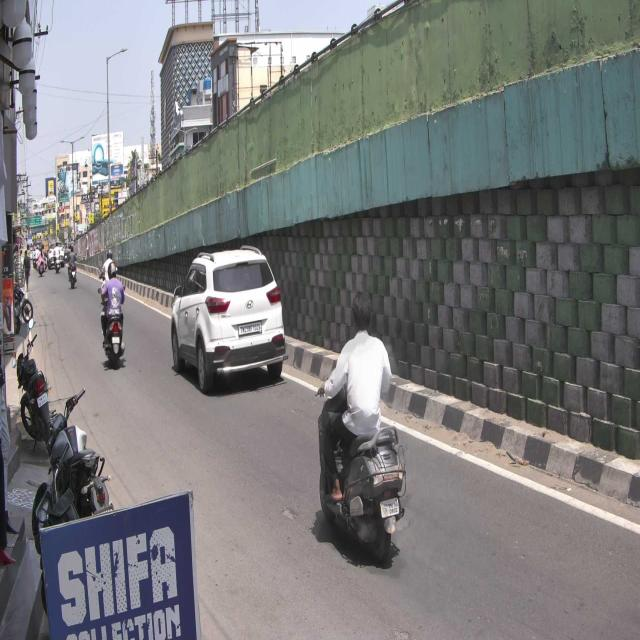single_rider: (314, 296, 408, 564)
